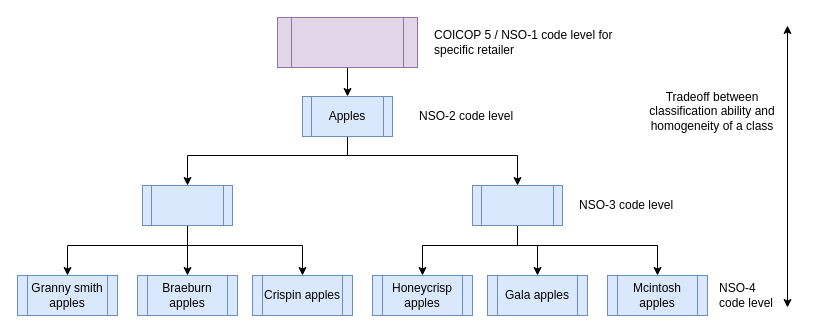
This 814x334 diagram has some shape labels left out. The centre of each missing label's shape, as x and y in pixels:
0.1.1.6.3 - Stone fruits and pome fruits, fresh: point 347,42
Green apples: point 187,205
Red Apples: point 517,205
